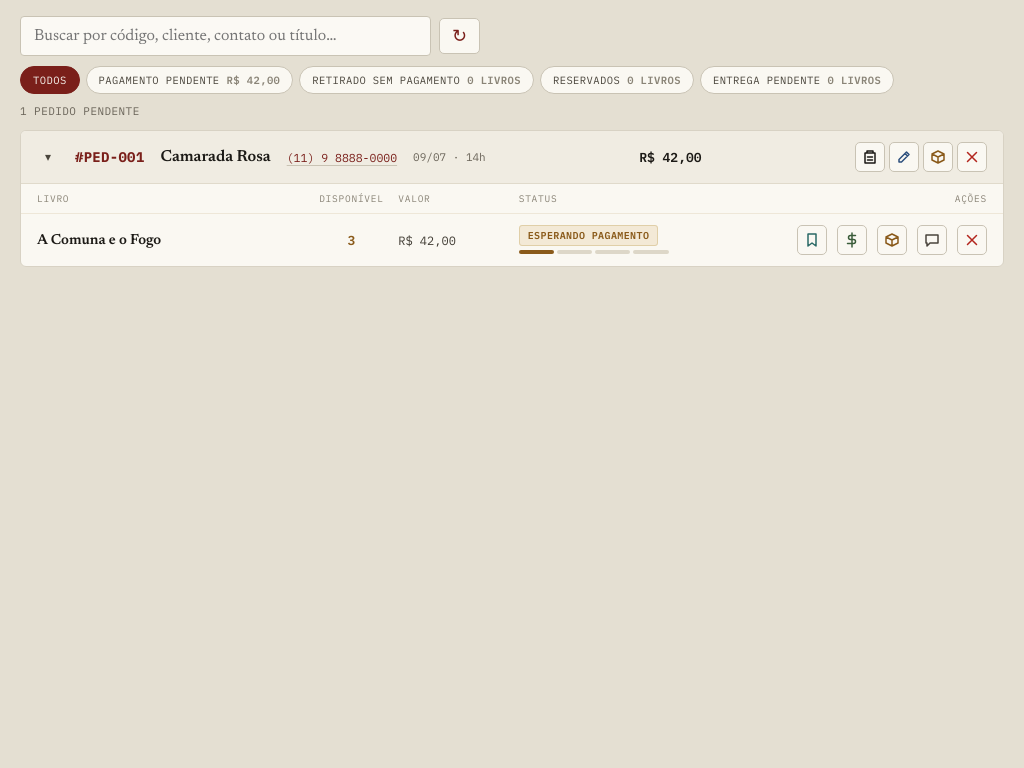
Scenario: Backoffice — Pedidos (linhas por unidade) › ações disparam toast temporário em vez de alerta fixo
Click the button named "reservar" at (812, 240), box top-left (797, 225), bottom-right (827, 255)
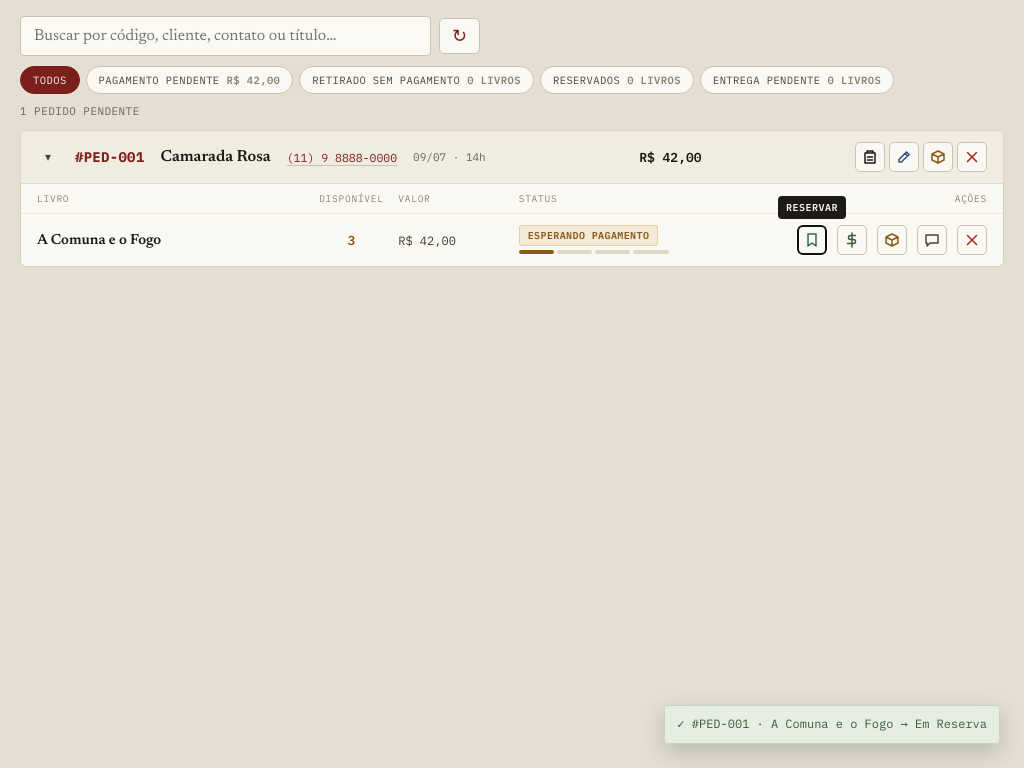
Result: the text "✓ #PED-001 · A Comuna e o Fogo → Em Reserva" is shown at top-left (664, 705), bottom-right (1000, 744)
